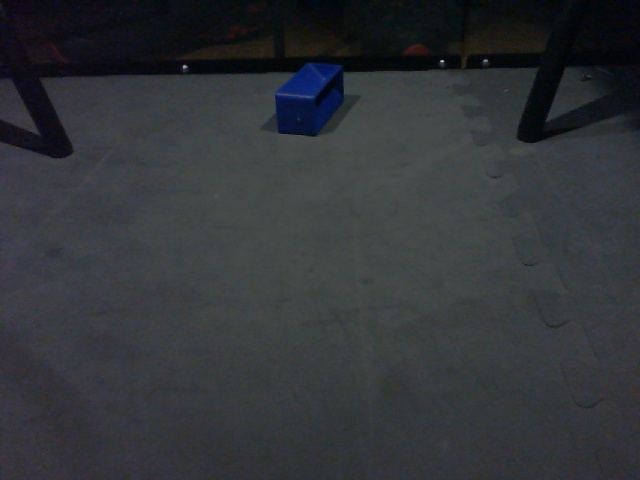BlueSample: (275, 61, 347, 138)
